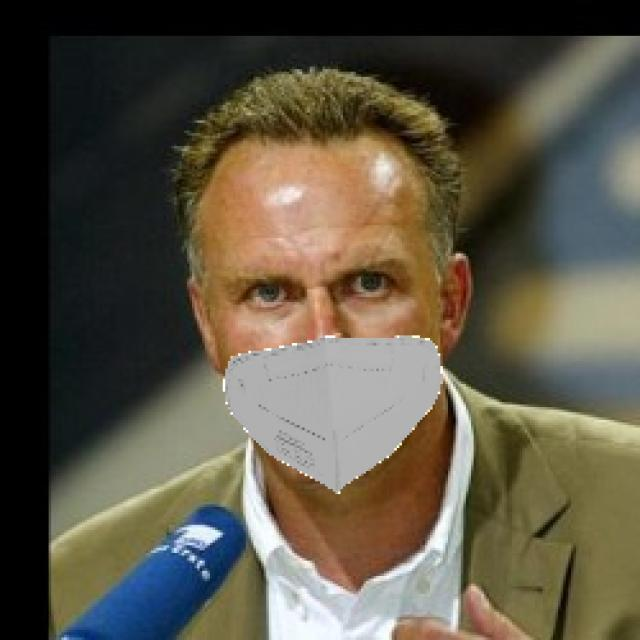kn95: (203, 144, 454, 492)
